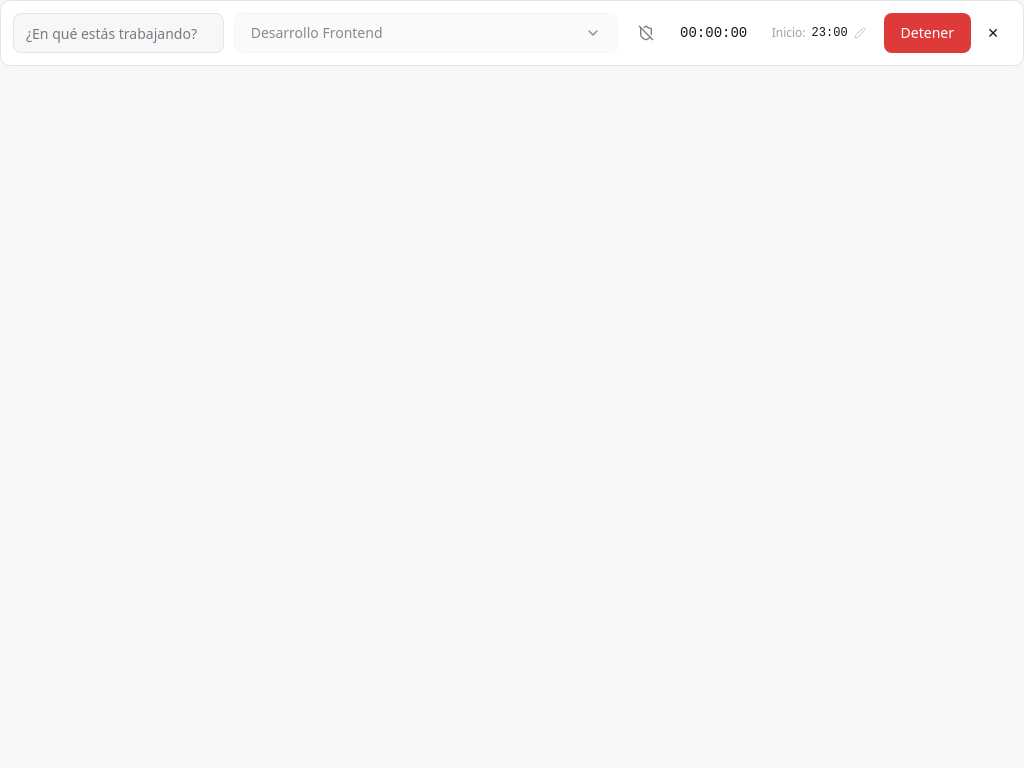
Test: TimeTrackerBar — Timer Mode › shows MidnightSplitModal when timer crosses midnight
What coordinates should you click on to do the following:
click the button "Detener"
I would click on:
 (927, 33)
Its box is [884,13,971,53].
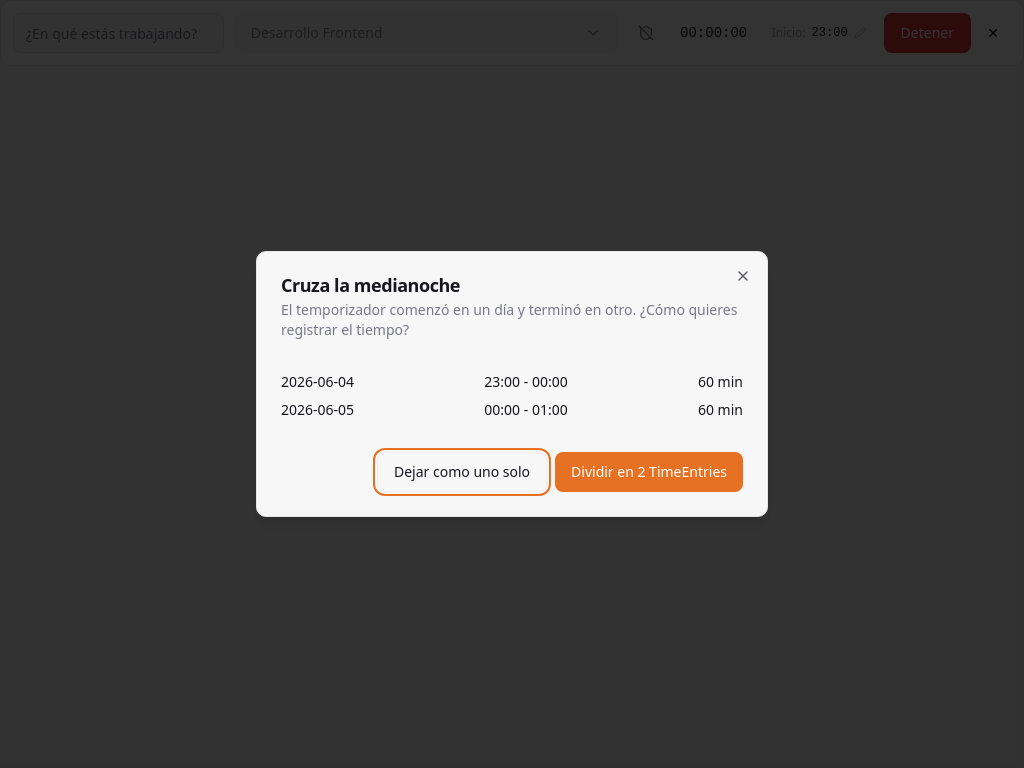
Now the heading "Cruza la medianoche" is shown, box [281,273,460,297]
Now the button "Dividir en 2 TimeEntries" is shown, box [555,452,743,492]
